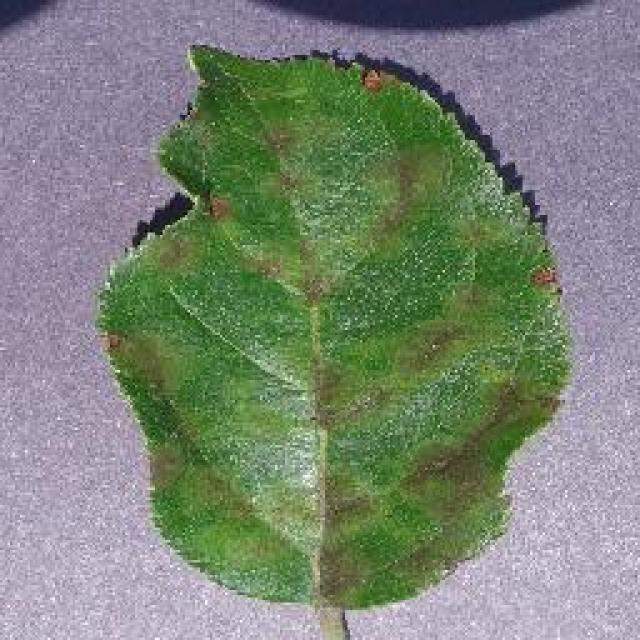apple scab disease: (93, 38, 575, 638)
